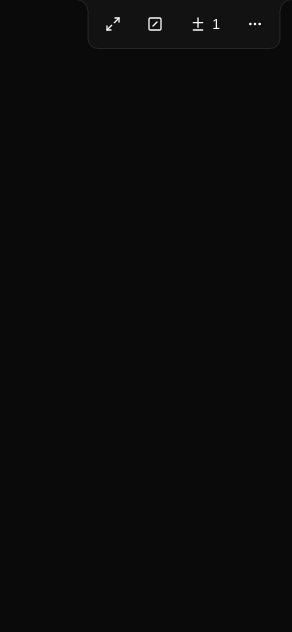
Test: the phone's one pane menu › carries the agent's own actions from the docked flap
The width and height of the screenshot is (292, 632).
Click the button named "Session actions": point(255, 24) left=235, top=4, right=275, bottom=44
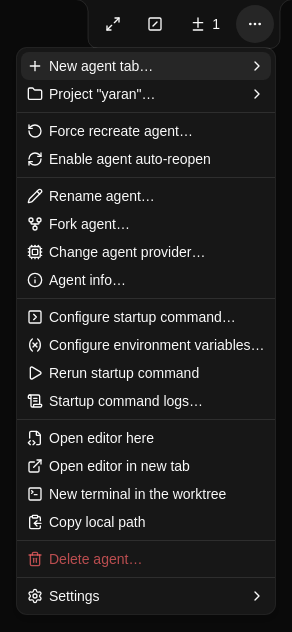
Check: the menu is shown
